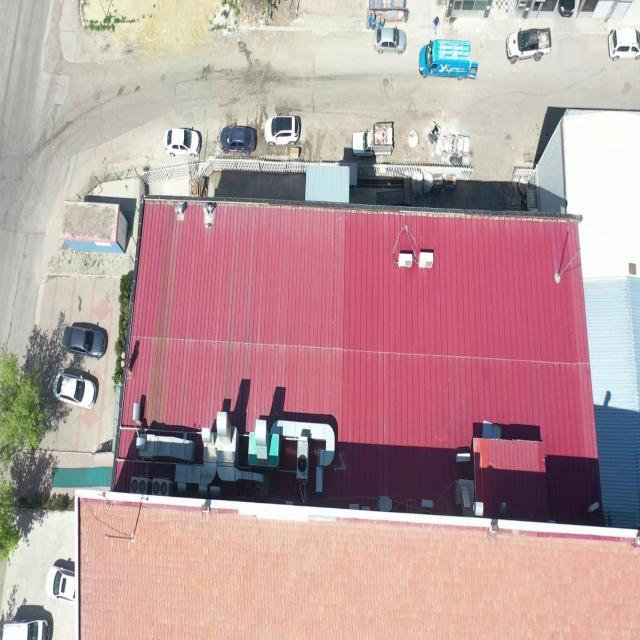p3rson: (432, 15, 441, 34)
